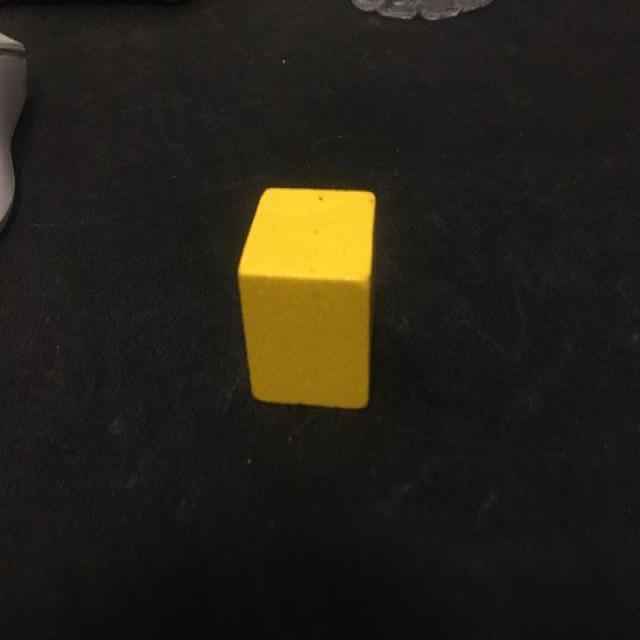yellow: (238, 188, 375, 405)
